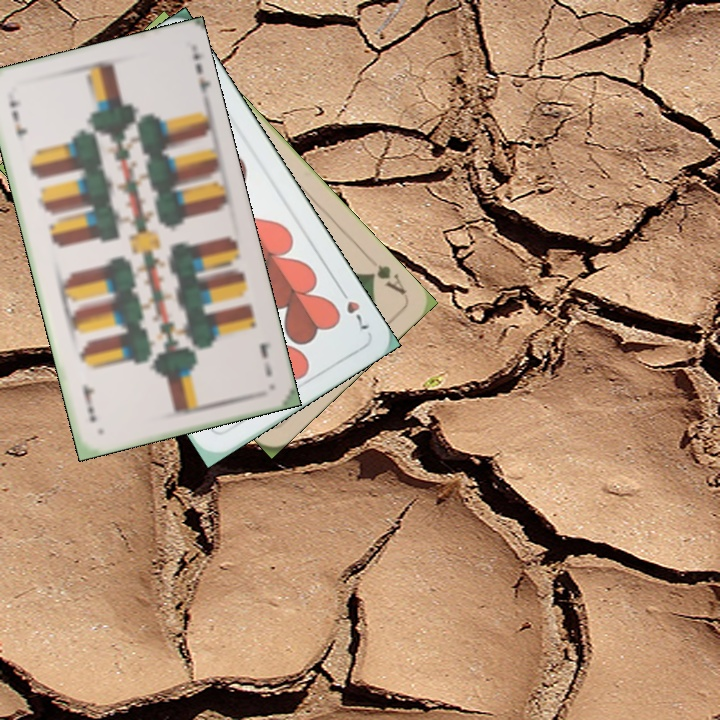E7: (5, 96, 30, 144), (255, 339, 274, 379)
GA: (364, 260, 409, 298)
H7: (334, 282, 372, 335)
